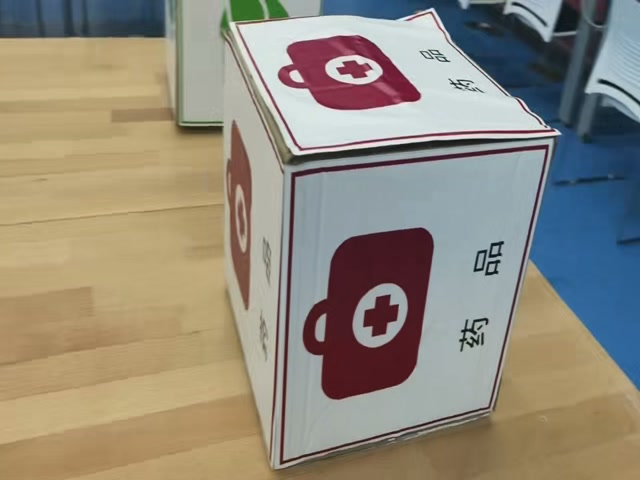Cube_medicine: (233, 13, 559, 165)
